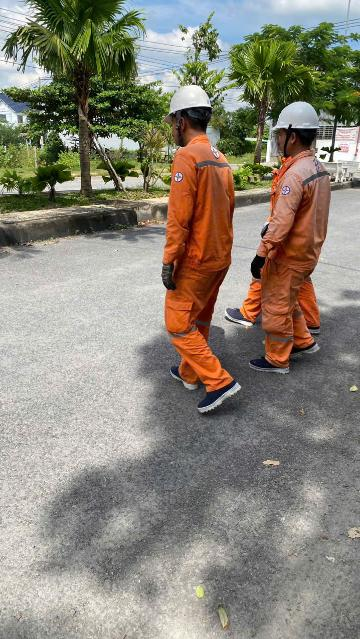gloves: (151, 250, 186, 299), (241, 257, 278, 284), (249, 224, 282, 248)
helmet: (139, 79, 227, 136), (260, 102, 326, 148)
shoes: (190, 367, 245, 424), (250, 337, 290, 384), (219, 296, 258, 333), (292, 307, 333, 341), (173, 349, 204, 393), (290, 336, 322, 362)
